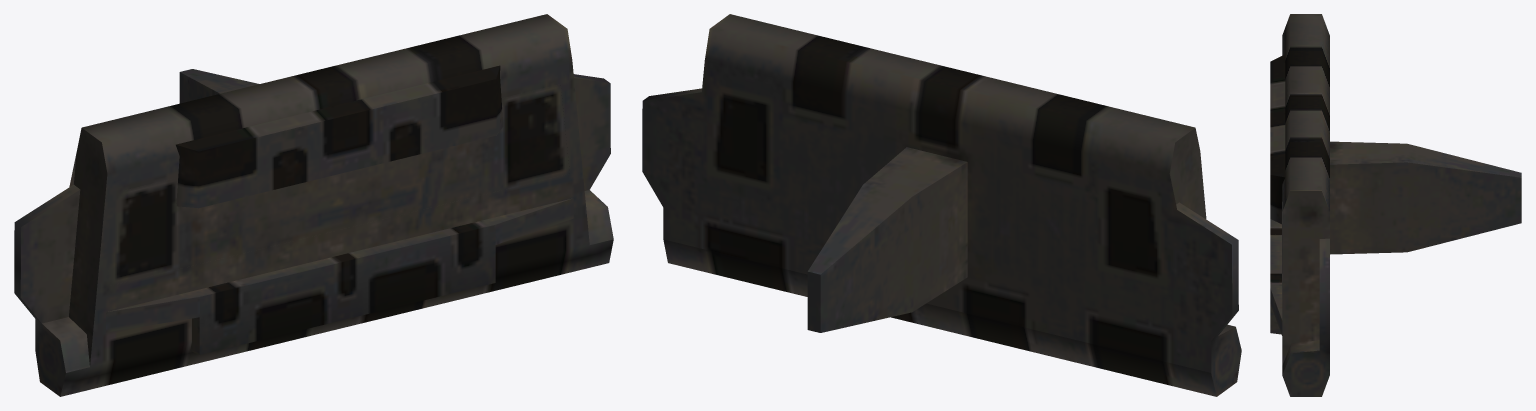
The picture shows the model from 3 angles, left to right: view 1: azimuth 30°, elevation 25°; view 2: azimuth 150°, elevation 25°; view 3: azimuth 270°, elevation 25°; orthographic projection. The views are drawn at different scales.
Parts seen in each view (by area): view 1: set_0_group_0; view 2: set_0_group_0; view 3: set_0_group_0.
Part boxes in pixels (box(x1,y1,x2,y2)): set_0_group_0: box(14, 14, 613, 396); set_0_group_0: box(642, 14, 1241, 396); set_0_group_0: box(1270, 14, 1521, 396).
Bounding box in the file's own units: 0.3003 × 0.1188 × 0.1423.
1 material, 1 textured.
